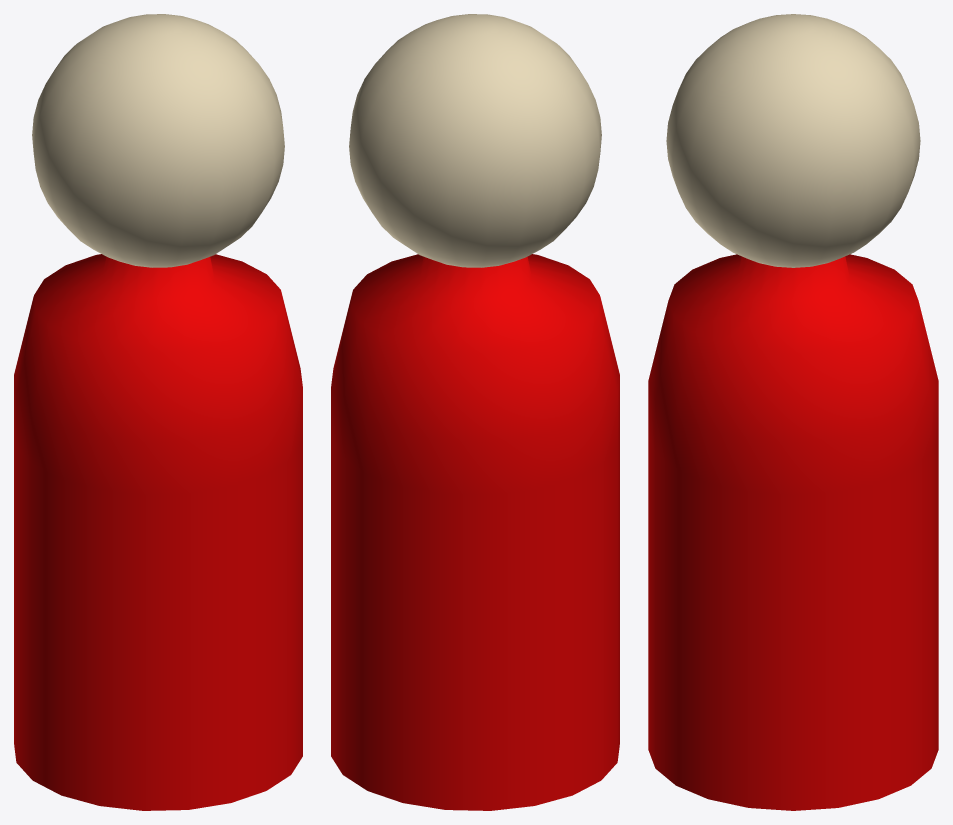
File: P_narissa_Fixed.fbx
The picture shows the model from 3 angles, left to right: view 1: azimuth 30°, elevation 25°; view 2: azimuth 150°, elevation 25°; view 3: azimuth 270°, elevation 25°; orthographic projection.
Visible parts, largest first — view 1: pCylinder2; view 2: pCylinder2; view 3: pCylinder2.
Boxes of the visible parts, left/top/right/bottom form: pCylinder2: left=14, top=14, right=302, bottom=810; pCylinder2: left=331, top=14, right=619, bottom=810; pCylinder2: left=648, top=14, right=938, bottom=810.
Bounding box in the file's own units: 80 × 220 × 80.
